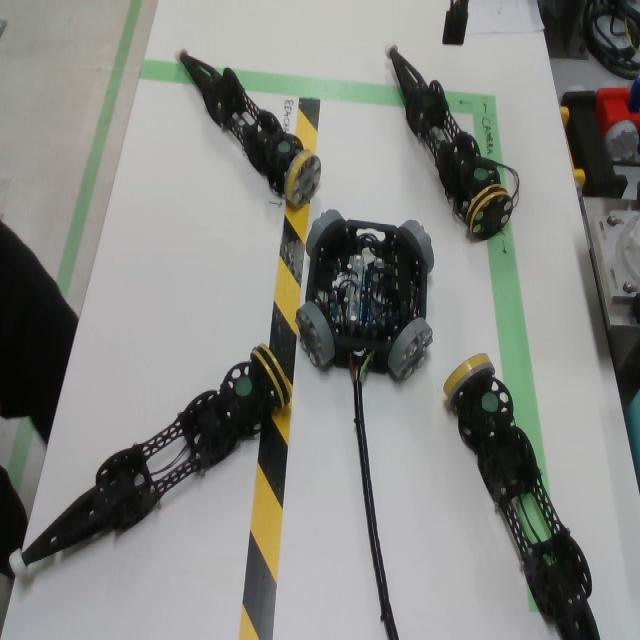body: (305, 220, 427, 376)
body_connector: (388, 317, 433, 383), (295, 301, 335, 369), (399, 220, 435, 275), (305, 209, 344, 259)
leg: (9, 344, 293, 573), (443, 353, 601, 640), (385, 43, 514, 240), (175, 47, 321, 209)
leg_connector: (250, 344, 293, 409), (466, 184, 514, 241), (443, 353, 495, 400), (284, 151, 321, 212)
leg_marker: (481, 392, 499, 413), (235, 376, 253, 397), (278, 140, 291, 155), (474, 168, 488, 181)
